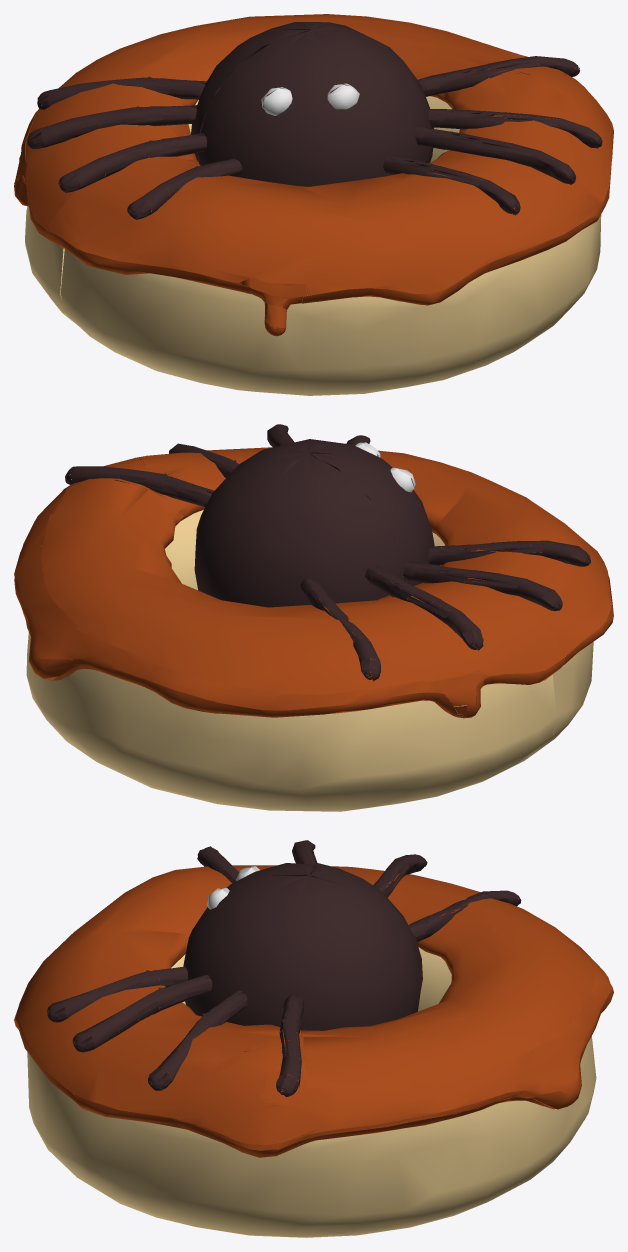
File: donut9.glb
The picture shows the model from 3 angles, top to bottom: view 1: azimuth 30°, elevation 25°; view 2: azimuth 150°, elevation 25°; view 3: azimuth 270°, elevation 25°; orthographic projection.
Parts seen in each view (by area): view 1: Donut9; view 2: Donut9; view 3: Donut9.
Boxes of the visible parts, bbox=[...] form: Donut9: bbox=[14, 14, 613, 395]; Donut9: bbox=[14, 424, 613, 811]; Donut9: bbox=[14, 840, 613, 1237].
Size of the model in its own units: 2.48 by 1.2 by 2.38.
